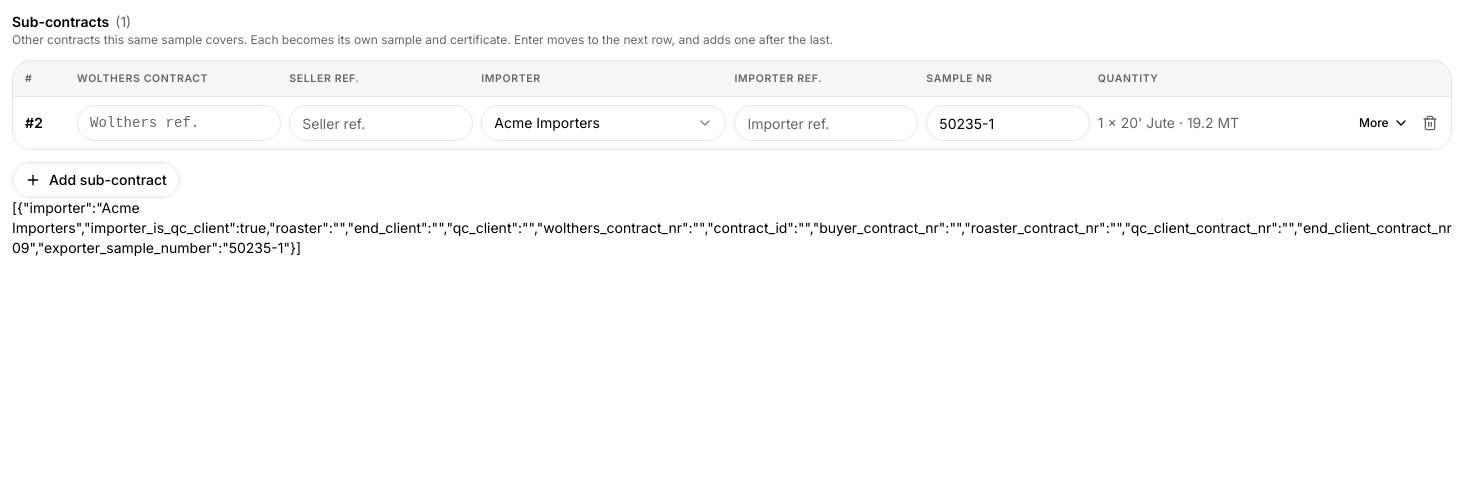
Test case: SubContractsTable — seller ref in the row › takes each contract's own seller ref without opening More
The image size is (1464, 502).
In the field named "Seller ref., sub-contract #2": (381, 123) [289,105,473,141], type "TTE-0058/26"
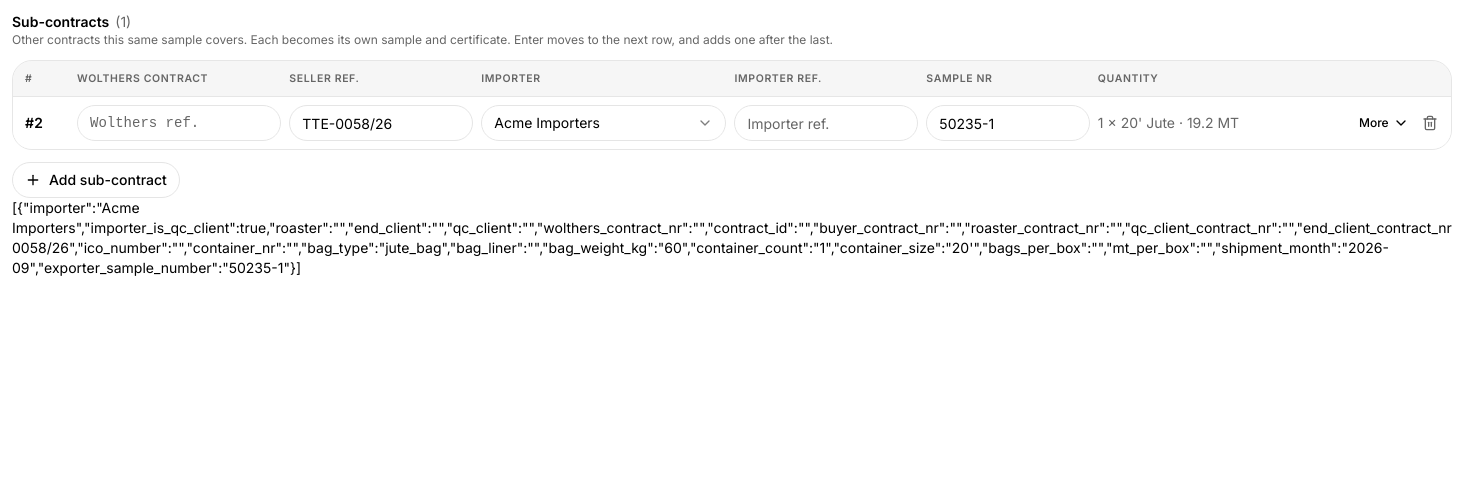
# One box only: More no longer repeats it.
Click the button with aria-label "More fields, sub-contract #2": (1384, 123) [1351,109,1417,137]
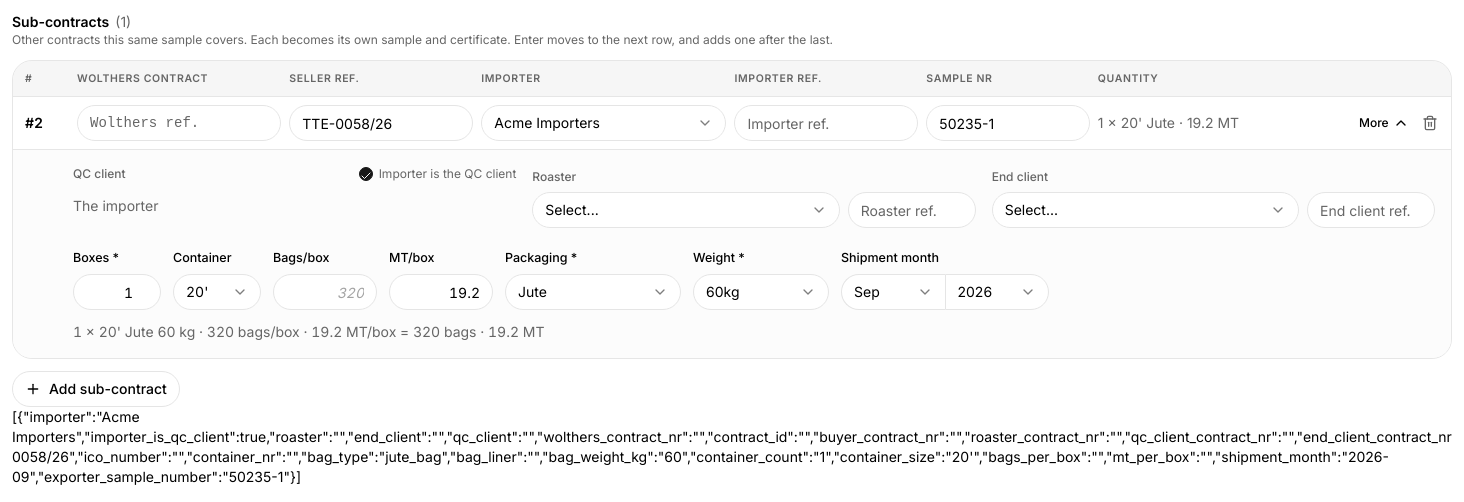
Expected: the number of fields showing "TTE-0058/26" is 1, [289,105,473,141]
